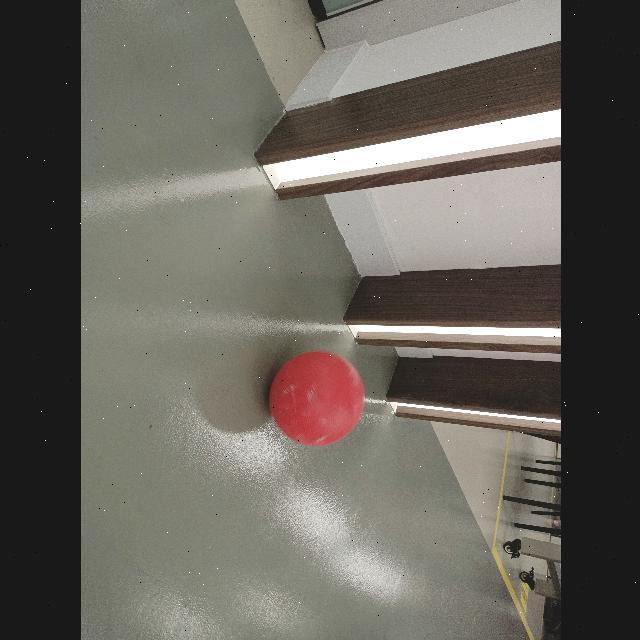R: (268, 351, 364, 443)
